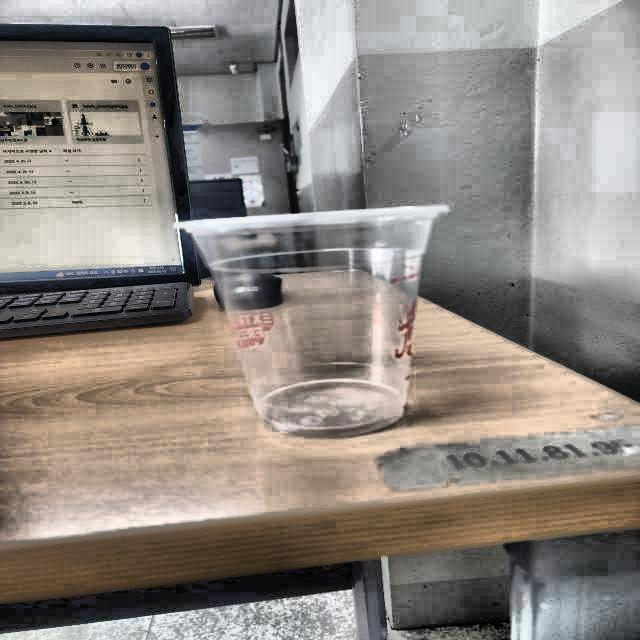plastic cup: (174, 204, 453, 438)
